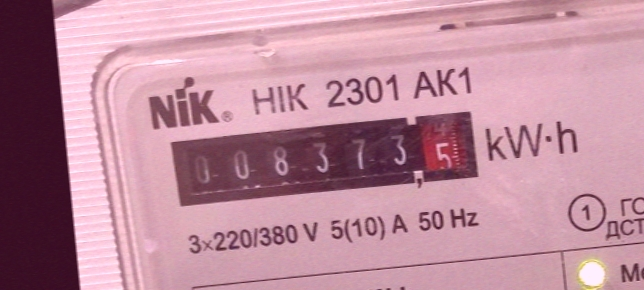0: (190, 149, 213, 186), (230, 144, 252, 181)
3: (308, 136, 333, 175), (386, 128, 411, 167)
4: (430, 117, 450, 138)
5: (433, 137, 455, 169)
7: (348, 131, 370, 172)
8: (269, 140, 293, 178)
screen: (164, 101, 488, 218)
